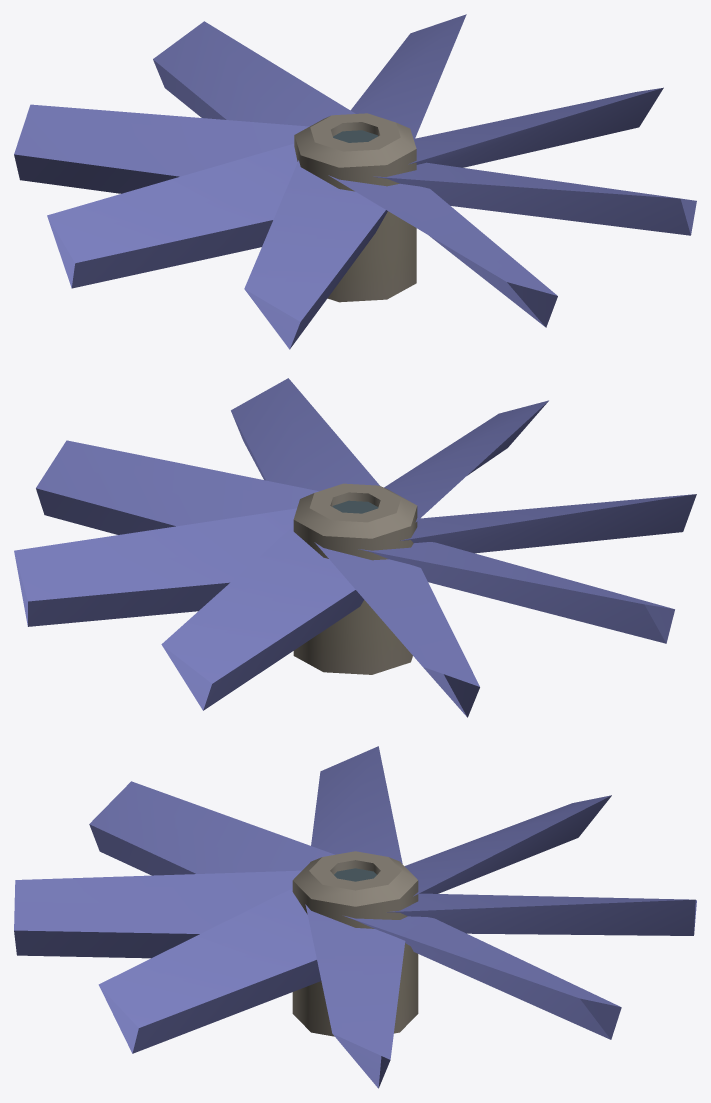
File: TFan_B.fbx
The picture shows the model from 3 angles, top to bottom: view 1: azimuth 30°, elevation 25°; view 2: azimuth 150°, elevation 25°; view 3: azimuth 270°, elevation 25°; orthographic projection. The views are drawn at different scales.
Parts seen in each view (by area): view 1: TFan_B; view 2: TFan_B; view 3: TFan_B.
Part boxes in pixels (x1,y1,x2,y2): TFan_B: (14,14,696,349); TFan_B: (14,378,696,717); TFan_B: (14,746,696,1088).
Size of the model in its own units: 86.98 by 20.08 by 86.98.
